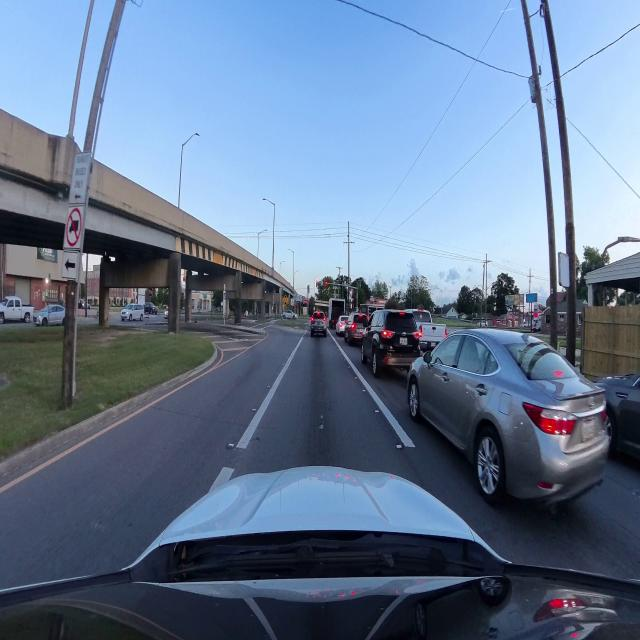car: (408, 330, 609, 502), (362, 310, 420, 377), (595, 373, 639, 457), (405, 309, 447, 350), (0, 296, 33, 323), (345, 313, 368, 344), (34, 304, 65, 326), (310, 311, 326, 336), (121, 304, 144, 321), (336, 316, 348, 335), (144, 302, 157, 314), (282, 310, 297, 319)
